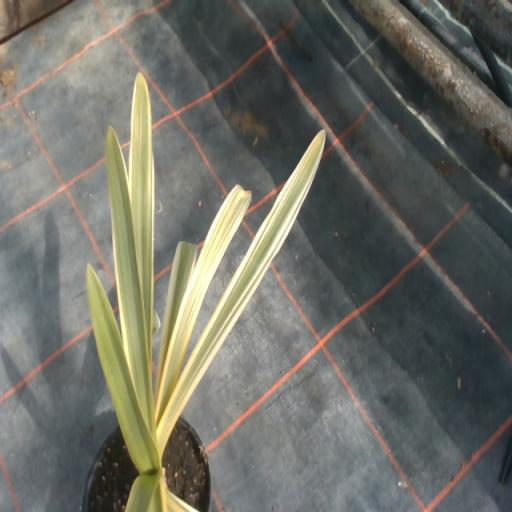Agapanthus-praecox: (158, 130, 325, 445), (158, 187, 250, 427), (106, 127, 155, 436), (87, 270, 156, 473), (128, 74, 154, 334), (157, 241, 196, 394), (126, 473, 162, 511)
